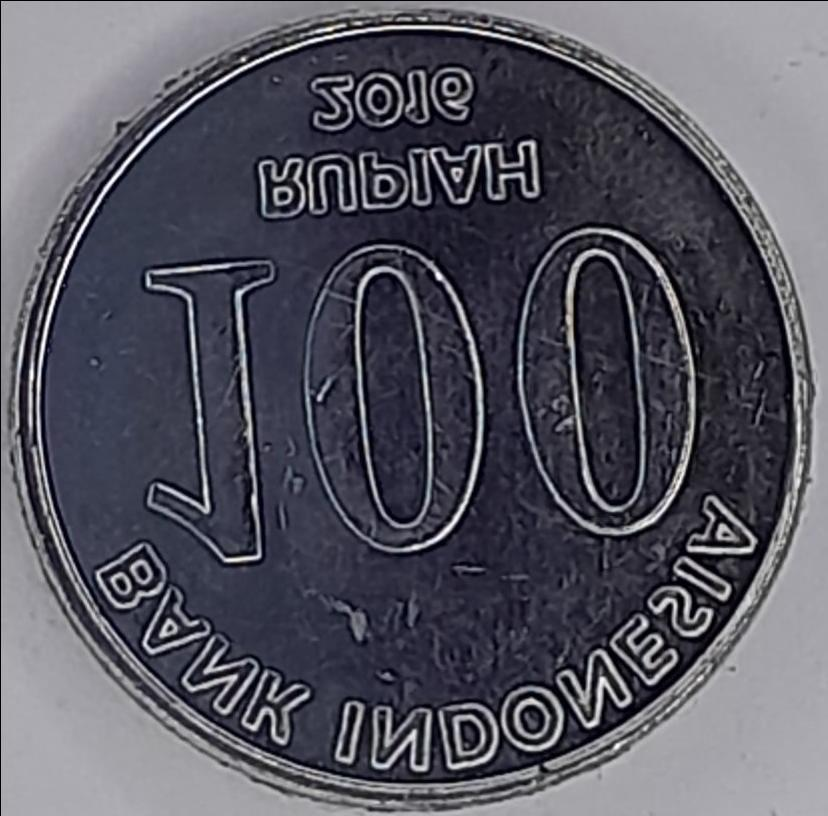coin_100_e2016: (4, 1, 822, 813)
